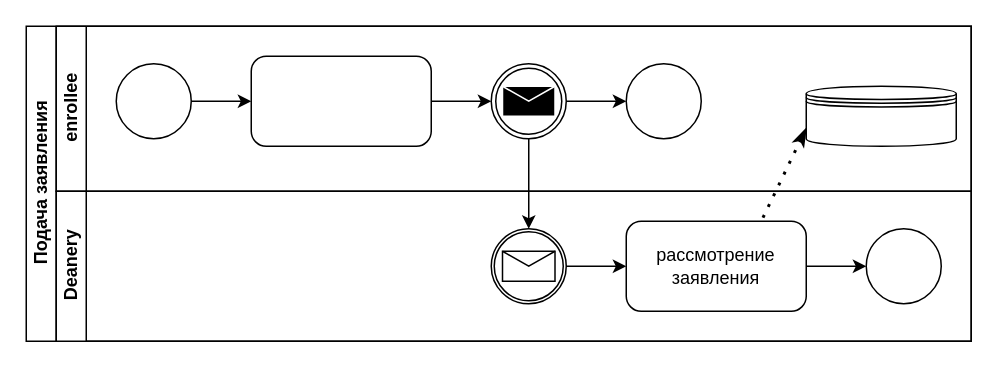
This 998x368 diagram has some shape labels left out. Here are the shapes that lost their labels. From the top down, the box of each, then its label:
(250, 55, 431, 146): заполнение заявления
(805, 85, 956, 146): база студентов
